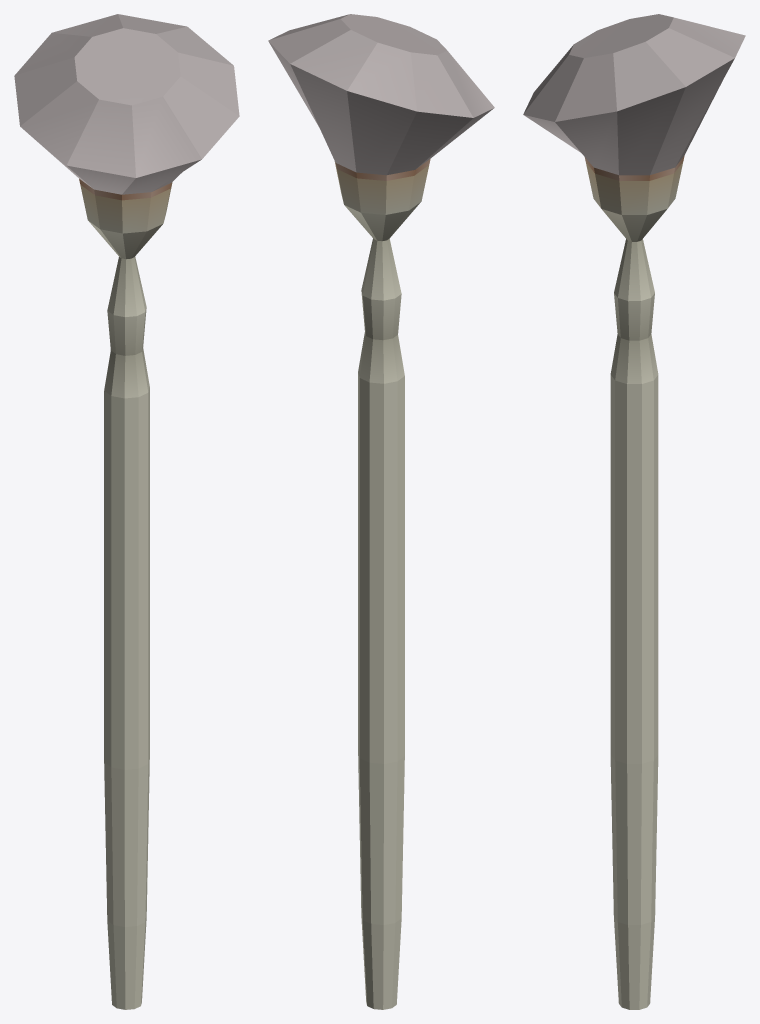
The model's file is Fluffy Brush.glb.
3 views of the same model, side by side, from view 1: azimuth 30°, elevation 25°; view 2: azimuth 150°, elevation 25°; view 3: azimuth 270°, elevation 25° (orthographic). The views are drawn at different scales.
Parts seen in each view (by area): view 1: Cylinder; view 2: Cylinder; view 3: Cylinder.
Boxes of the visible parts, x1,y1,x2,y2 form: Cylinder: [14, 14, 239, 1009]; Cylinder: [268, 14, 494, 1009]; Cylinder: [523, 14, 745, 1009].
Bounding box in the file's own units: 3.28 × 15.28 × 3.14.
